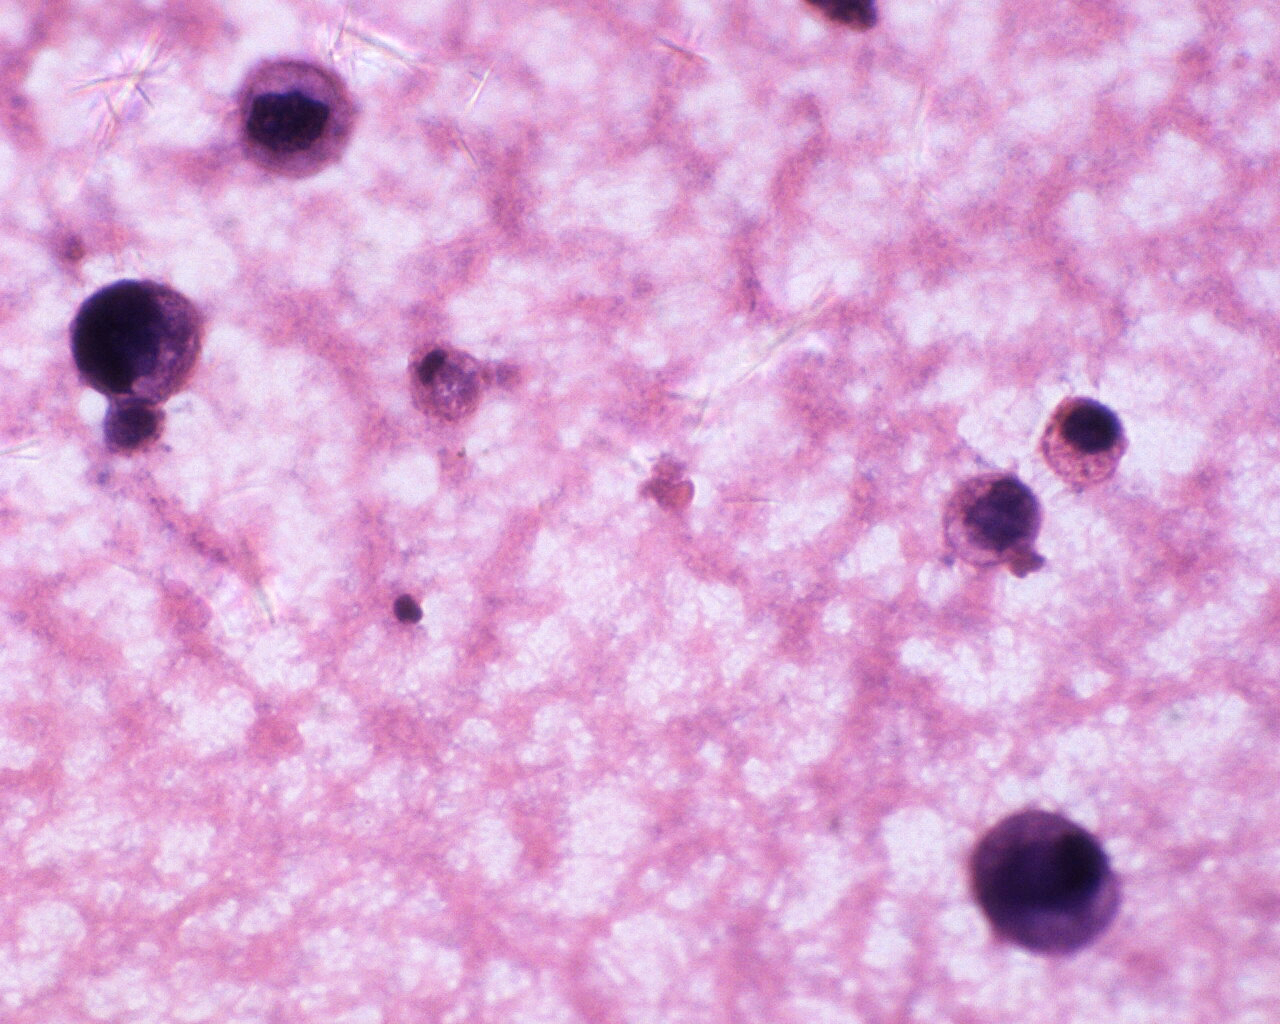ab: (965, 804, 1122, 961), (65, 275, 207, 406), (233, 56, 362, 185), (944, 470, 1043, 569)
histo: (408, 340, 489, 428)
meso: (1041, 395, 1132, 492)
